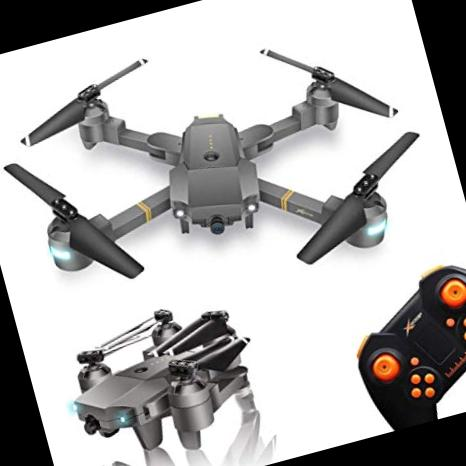drone: (0, 0, 440, 350)
